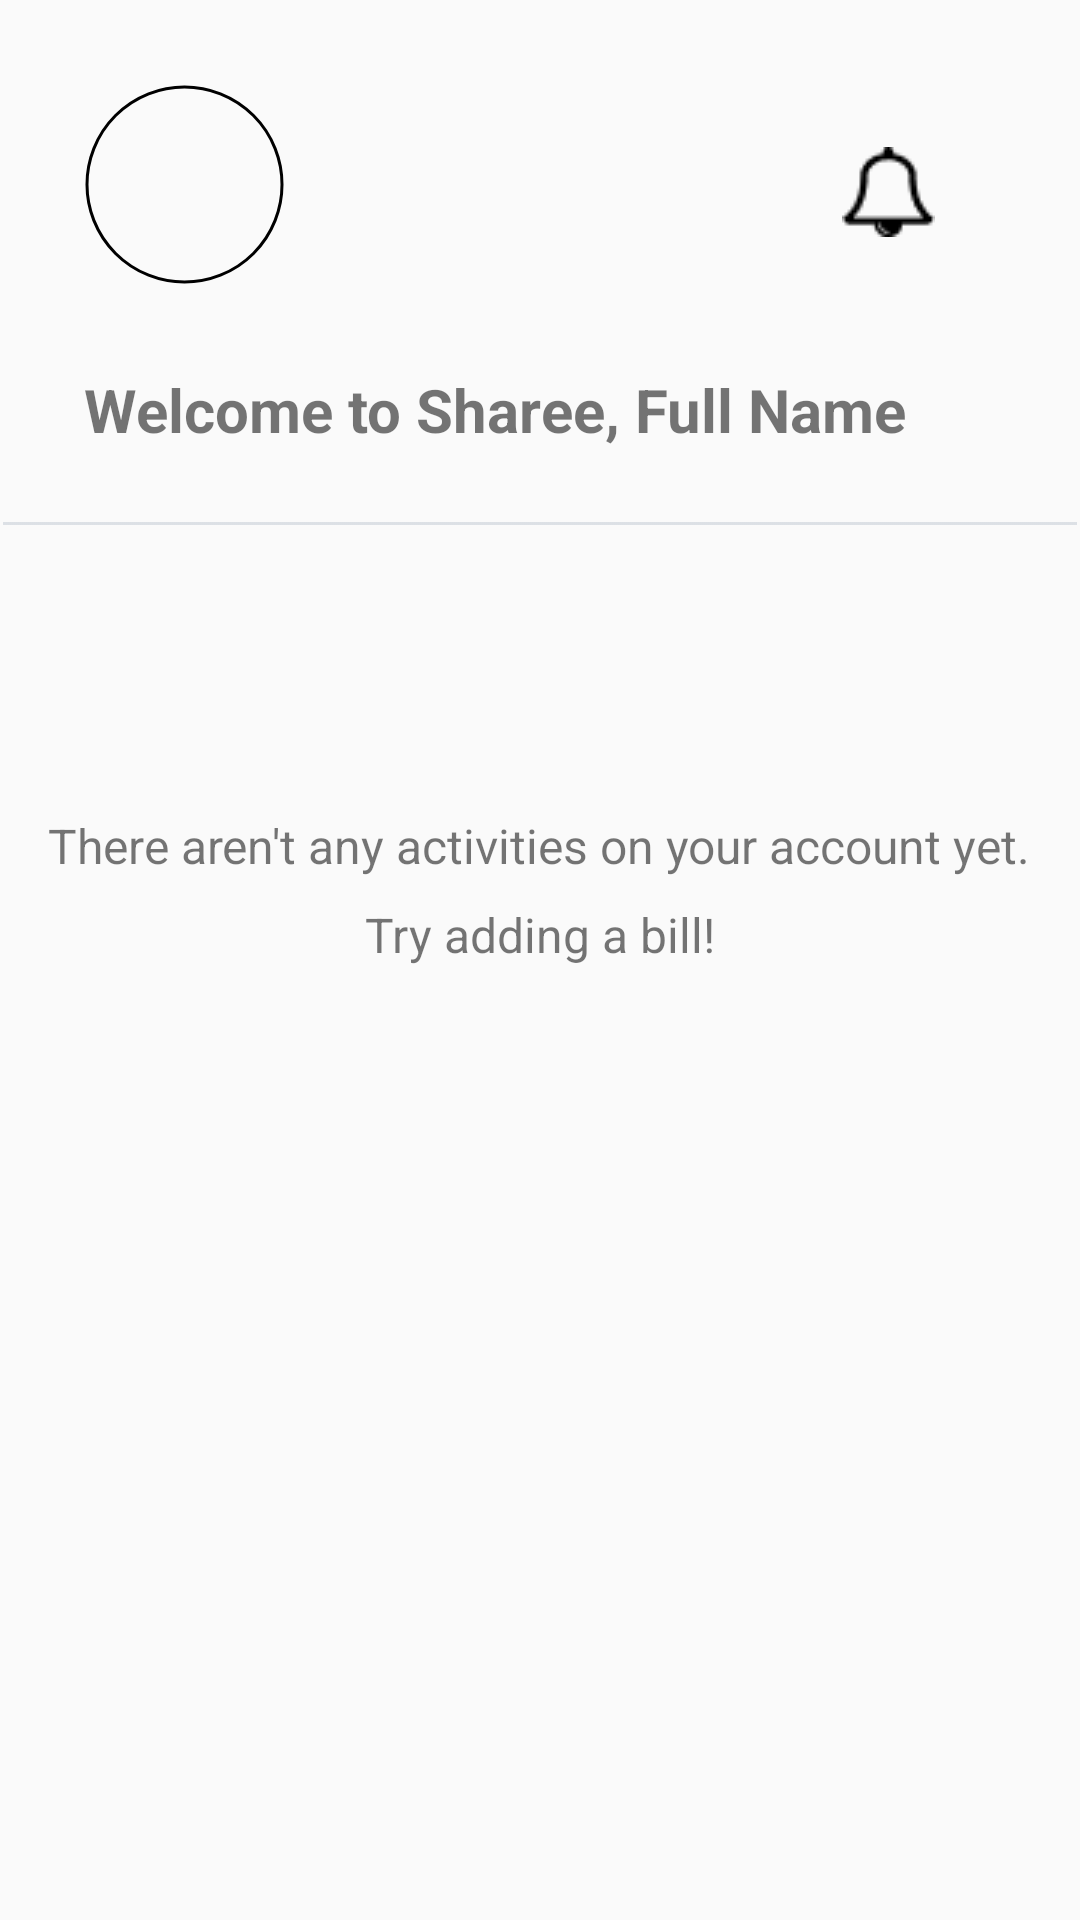

Icon click points for this 1080×1920 phone screenshot, format point (x, y):
bell: point (888, 192)
